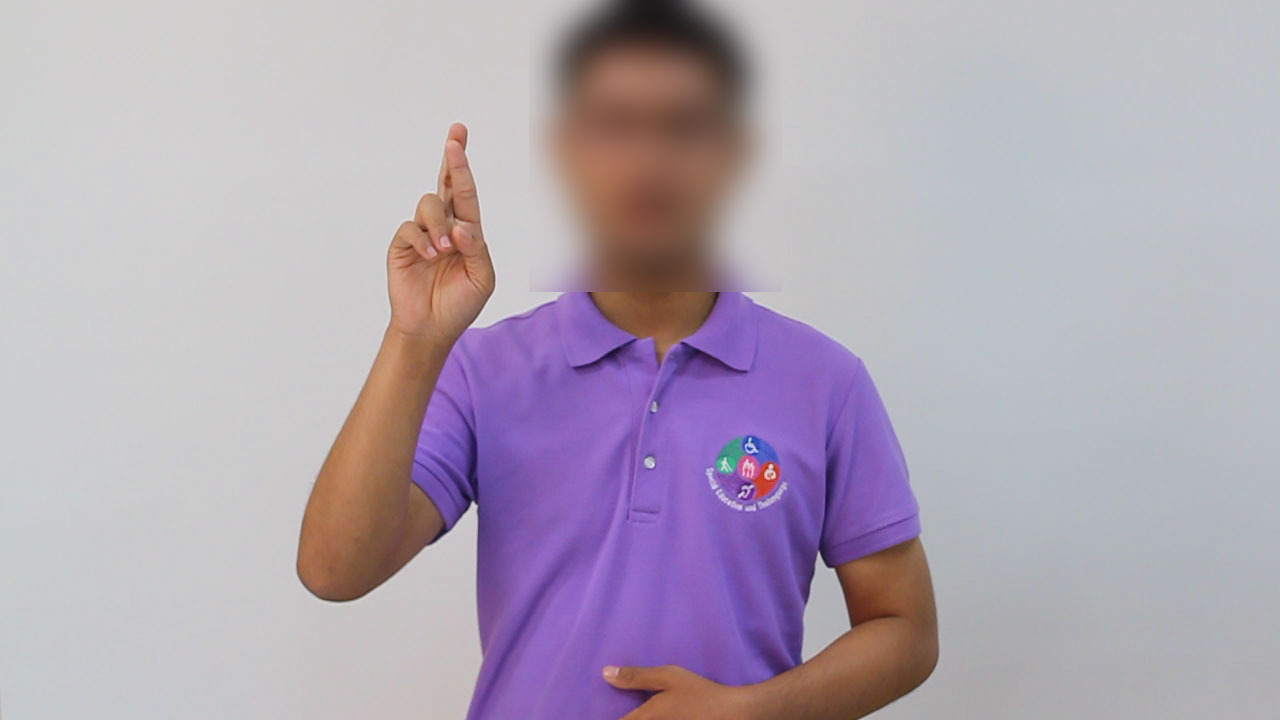rao: (370, 116, 504, 365)
